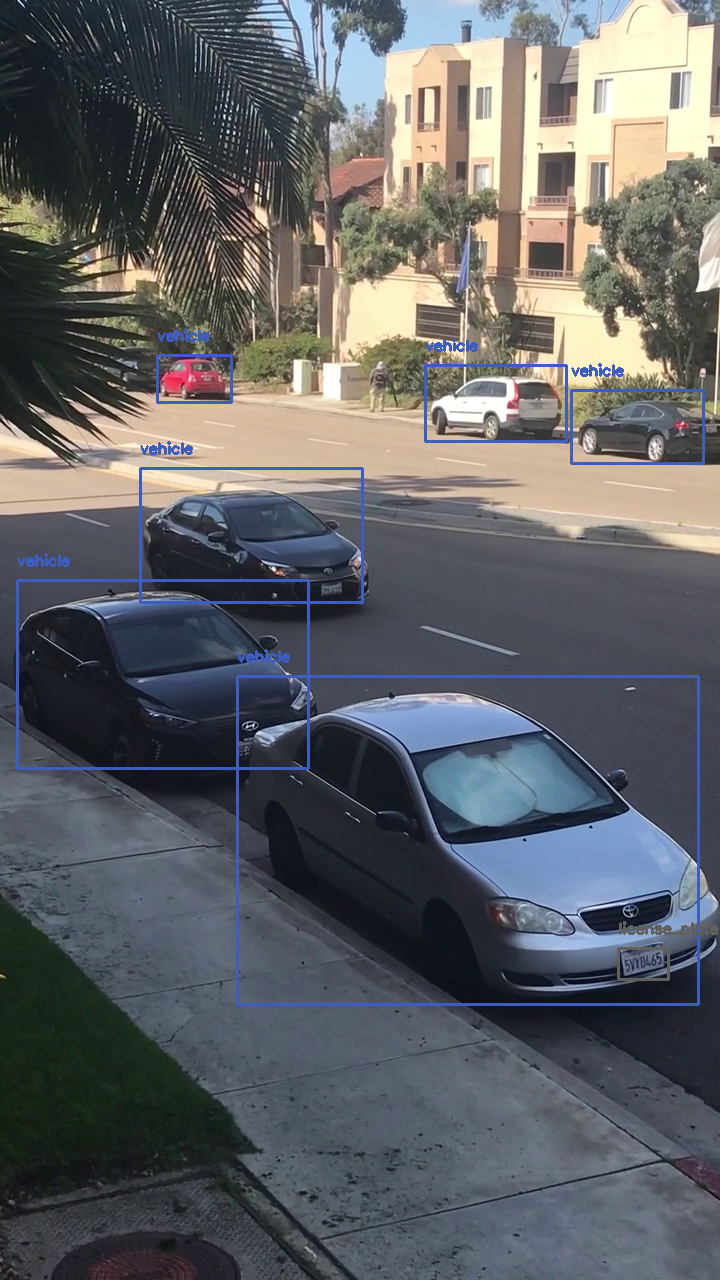license_plate: (618, 948, 668, 979)
vehicle: (237, 676, 698, 1004), (17, 580, 308, 768), (140, 468, 362, 602), (425, 365, 566, 441), (571, 390, 703, 463), (157, 355, 231, 402)
